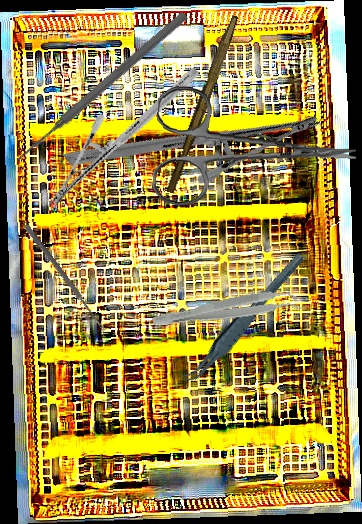Iris Scissors: (151, 84, 360, 219)
Needle Holder: (62, 17, 323, 263), (46, 37, 201, 239)
Pusher: (13, 9, 190, 165)
Scalpel Handle: (164, 12, 240, 196)
Surgical Spoon: (22, 223, 108, 333)
Tissue Forceps: (167, 251, 319, 389), (150, 285, 304, 337)
